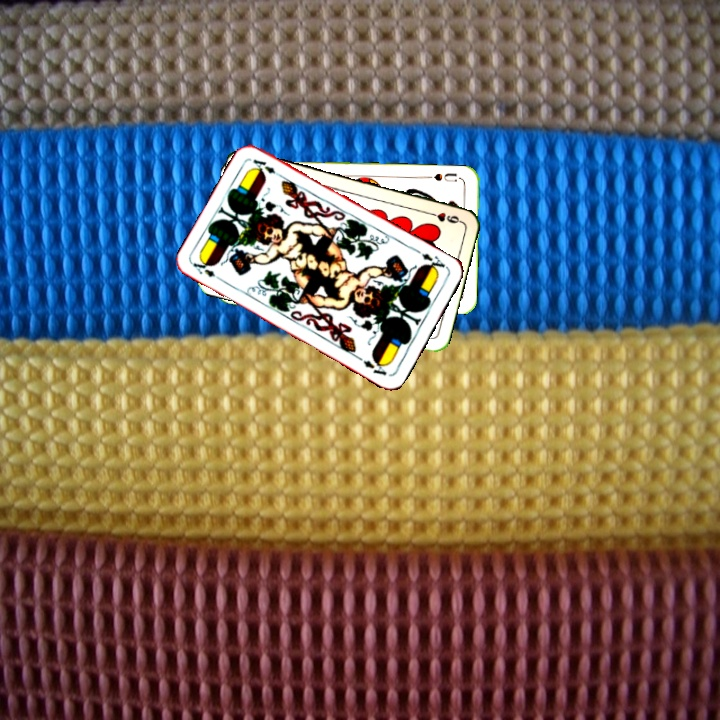EA: (189, 256, 226, 284), (417, 249, 450, 275)
H9: (423, 208, 463, 226)
SU: (424, 169, 459, 184)
